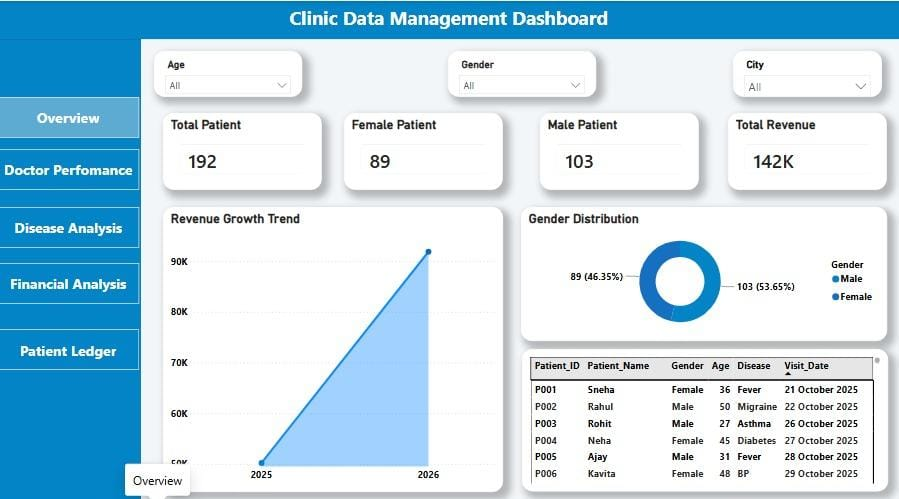

The dashboard page shown, as its layout file describes it:
{"tool":"powerbi","page":{"name":"Overview","canvas":[1280,720],"ordinal":0},"visuals":[{"type":"textbox","box":[0,0,1280,53.8],"z":0},{"type":"shape","box":[0,53.3,204.5,666.7],"z":1000},{"type":"slicer","fields":{"Values":["Clinic_Management_Data(Cleaned_Data) (2).Age"]},"box":[223.2,70.6,210.2,64.8],"z":2000},{"type":"slicer","fields":{"Values":["Clinic_Management_Data(Cleaned_Data) (2).Gender"]},"box":[639.2,70.9,209.8,65.2],"z":3000},{"type":"slicer","fields":{"Values":["Clinic_Management_Data(Cleaned_Data) (2).City"]},"box":[1043.1,70.9,211.2,65.2],"z":4000},{"type":"cardVisual","title":"Total Patient","fields":{"Data":["CountNonNull(Clinic_Management_Data(Cleaned_Data) (2).Patient_ID)"]},"box":[235.3,158.7,225.4,109.1],"z":5000},{"type":"cardVisual","title":"Female Patient","fields":{"Data":["CountNonNull(Clinic_Management_Data(Cleaned_Data) (2).Patient_ID)"]},"box":[491.8,158.7,225.4,109.1],"z":6000},{"type":"cardVisual","title":"Male Patient","fields":{"Data":["CountNonNull(Clinic_Management_Data(Cleaned_Data) (2).Patient_ID)"]},"box":[769.6,158.7,225.4,109.1],"z":7000},{"type":"cardVisual","title":"Total Revenue","fields":{"Data":["Sum(Clinic_Management_Data(Cleaned_Data) (2).Total_Bill)"]},"box":[1036.1,158.7,225.4,109.1],"z":8000},{"type":"areaChart","title":"Revenue Growth Trend","fields":{"Y":["Sum(Clinic_Management_Data(Cleaned_Data) (2).Total_Bill)"],"Category":["Clinic_Management_Data(Cleaned_Data) (2).Visit_Date.Variation.Date Hierarchy.Year"]},"box":[235.3,292,481.9,403.9],"z":9000},{"type":"donutChart","title":"Gender Distribution","fields":{"Category":["Clinic_Management_Data(Cleaned_Data) (2).Gender"],"Y":["CountNonNull(Clinic_Management_Data(Cleaned_Data) (2).Patient_ID)"]},"box":[742.7,292,518.7,189.9],"z":10000},{"type":"tableEx","fields":{"Values":["Clinic_Management_Data(Cleaned_Data) (2).Patient_ID","Clinic_Management_Data(Cleaned_Data) (2).Patient_Name","Clinic_Management_Data(Cleaned_Data) (2).Gender","Clinic_Management_Data(Cleaned_Data) (2).Age","Clinic_Management_Data(Cleaned_Data) (2).Disease","Clinic_Management_Data(Cleaned_Data) (2).Visit_Date"]},"box":[744.1,493.9,519.1,201.6],"z":11000},{"type":"actionButton","box":[0,135.4,201.6,57.6],"z":12000},{"type":"actionButton","box":[0,210.2,201.6,57.6],"z":13000},{"type":"actionButton","box":[0,292.3,201.6,57.6],"z":14000},{"type":"actionButton","box":[0,371.5,201.6,57.6],"z":15000},{"type":"actionButton","box":[0,464.9,201.3,58.1],"z":16000}]}

Visuals, with their boxes on the page's 1280x720 design canvas (x1, y1, x2, y2). These are canvas units, not pixel positions in the 899x499 screenshot, which may show the page scaled, cropped or inside an application window:
textbox: [0,0,1280,54]
shape: [0,53,204,720]
slicer - Clinic_Management_Data(Cleaned_Data) (2).Age: [223,71,433,135]
slicer - Clinic_Management_Data(Cleaned_Data) (2).Gender: [639,71,849,136]
slicer - Clinic_Management_Data(Cleaned_Data) (2).City: [1043,71,1254,136]
"Total Patient" cardVisual: [235,159,461,268]
"Female Patient" cardVisual: [492,159,717,268]
"Male Patient" cardVisual: [770,159,995,268]
"Total Revenue" cardVisual: [1036,159,1262,268]
"Revenue Growth Trend" areaChart: [235,292,717,696]
"Gender Distribution" donutChart: [743,292,1261,482]
tableEx - Clinic_Management_Data(Cleaned_Data) (2).Patient_ID x Clinic_Management_Data(Cleaned_Data) (2).Patient_Name: [744,494,1263,696]
actionButton: [0,135,202,193]
actionButton: [0,210,202,268]
actionButton: [0,292,202,350]
actionButton: [0,372,202,429]
actionButton: [0,465,201,523]
